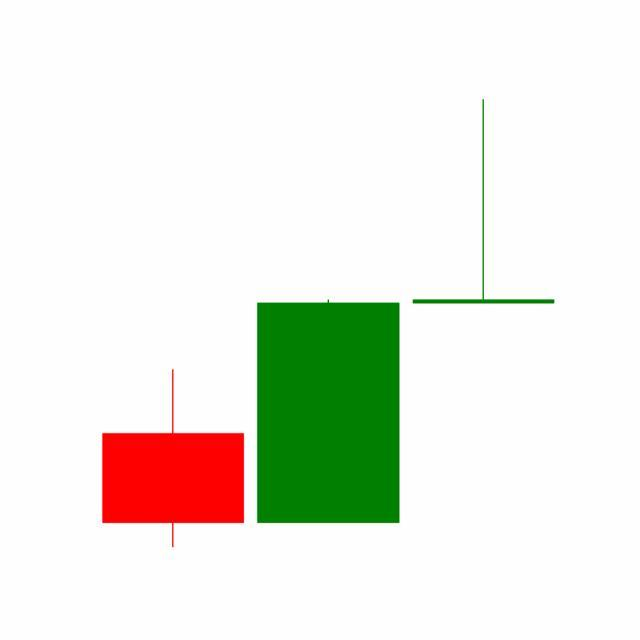Gravestone Doji: (406, 98, 562, 306)
